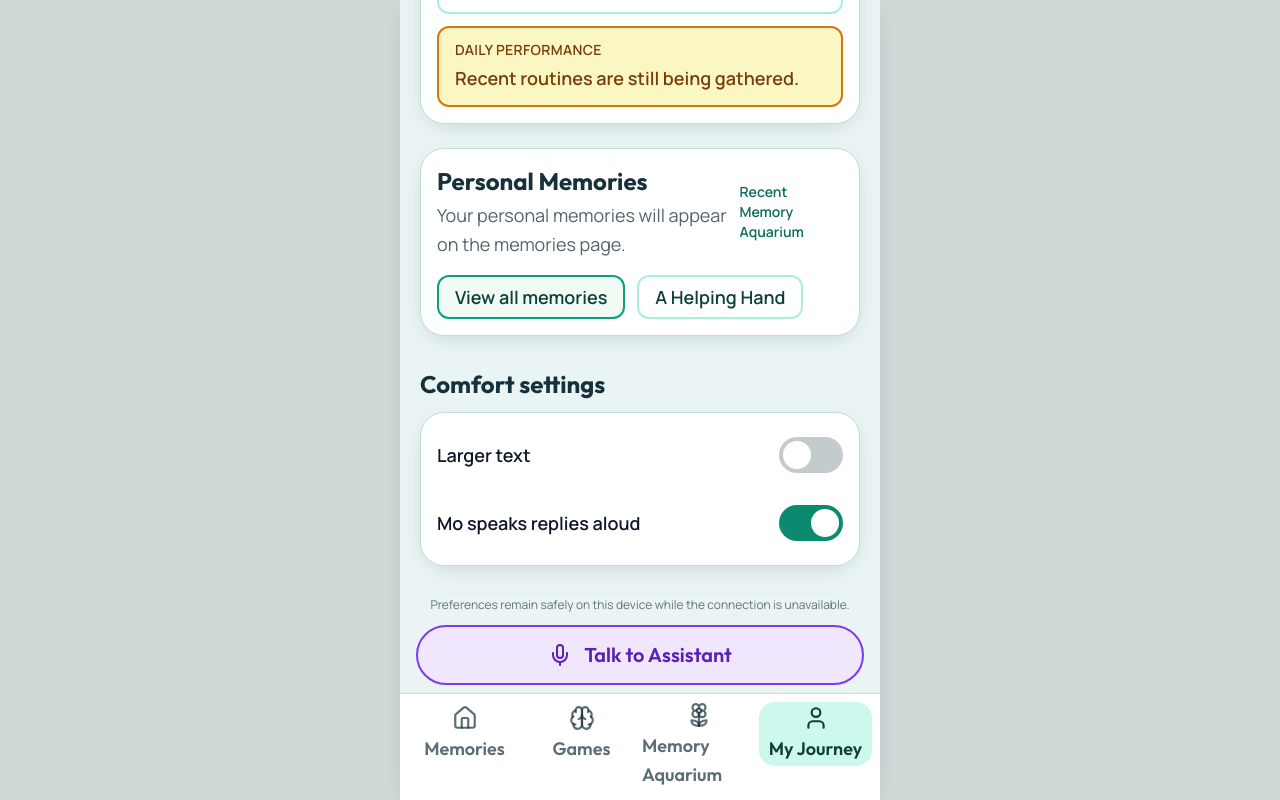
Profile Part 2 connections › opens the shared Mo assistant from A Helping Hand
The width and height of the screenshot is (1280, 800).
(page scrolled)
Step 1. Click the button with aria-label "A Helping Hand. Open Mo assistant" → click(720, 297), box [637,275,803,319]
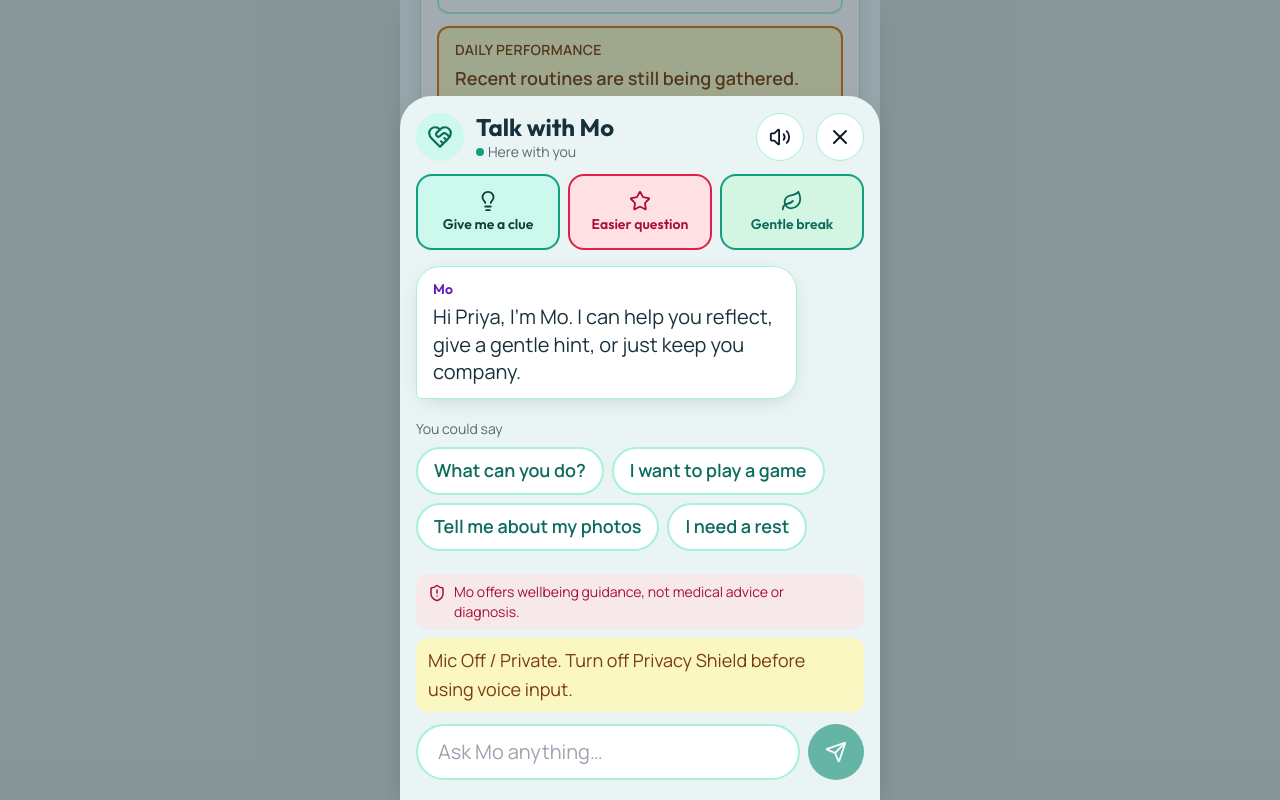
Expected: the dialog named "Assistant" is shown
